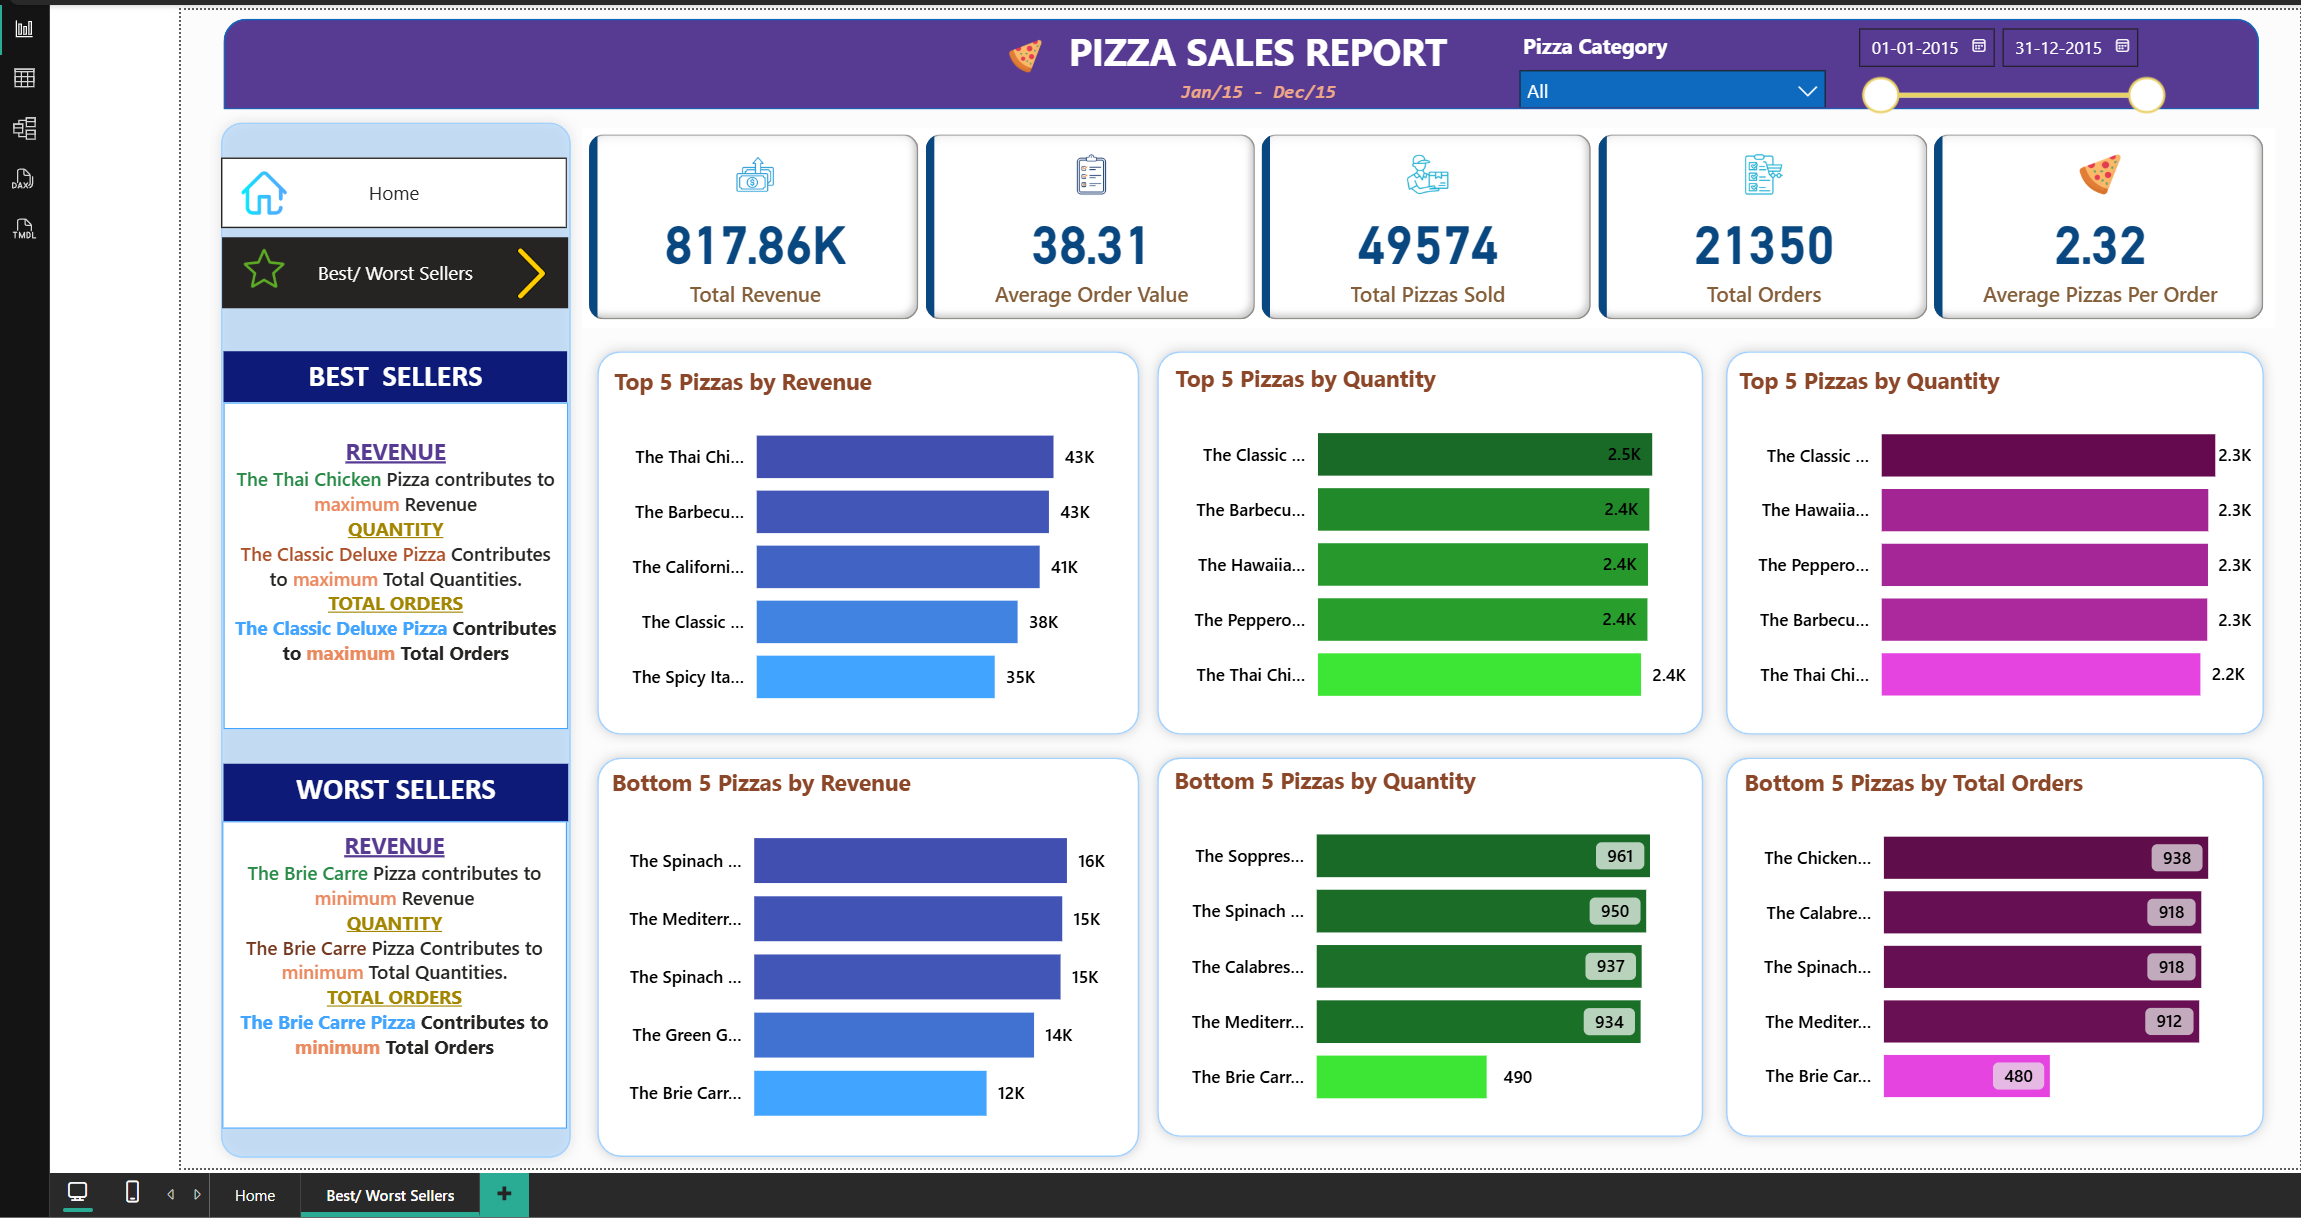

This screenshot's page, from the dashboard's own definition file:
{"tool":"powerbi","page":{"name":"Best/ Worst Sellers","canvas":[1500,820],"ordinal":1},"visuals":[{"type":"cardVisual","fields":{"Data":["pizza_sales.Total Revenue","pizza_sales.Average Order Value","pizza_sales.Total Pizzas Sold","pizza_sales.Total Orders","pizza_sales.Average Pizzas Per Order"]},"box":[283.8,83.2,1198.6,141.9],"z":0},{"type":"shape","box":[30.3,6.6,1440.8,64.3],"z":1000},{"type":"textbox","box":[612.1,6.6,299.9,57.7],"z":2000},{"type":"textbox","box":[702.9,43.5,131.5,27.4],"z":3000},{"type":"image","box":[577.1,16.1,41.6,34.1],"z":4000},{"type":"shape","box":[286.3,234,399.5,287.3],"z":5000},{"type":"shape","box":[20,71.3,263.5,748.7],"z":15000},{"type":"textbox","box":[30.4,241.6,243.5,36.1],"z":16000},{"type":"textbox","box":[30.3,278.1,244.1,230.8],"z":17000},{"type":"textbox","box":[30.3,533.6,244.1,40.7],"z":18000},{"type":"textbox","box":[29.3,574.2,244.1,217.6],"z":19000},{"type":"slicer","fields":{"Values":["pizza_sales.pizza_category"]},"box":[937,10.5,236.9,58],"z":20000},{"type":"slicer","fields":{"Values":["pizza_sales.order_date"]},"box":[1174.9,2.9,237.8,74.2],"z":21000},{"type":"shape","box":[683,234,402.4,287.3],"z":21001},{"type":"shape","box":[1085.4,234,396.7,287.3],"z":21002},{"type":"shape","box":[286.3,521.3,399.5,298.7],"z":21003},{"type":"shape","box":[683,521.3,402.4,284.4],"z":21004},{"type":"shape","box":[1085.4,521.3,396.7,284.4],"z":21005},{"type":"barChart","title":"Top 5 Pizzas by Revenue","fields":{"Category":["pizza_sales.pizza_name"],"Y":["pizza_sales.Total Revenue"]},"box":[301.3,251.3,371.6,257.7],"z":21006},{"type":"barChart","title":"Bottom 5 Pizzas by Revenue","fields":{"Category":["pizza_sales.pizza_name"],"Y":["pizza_sales.Total Revenue"]},"box":[299.7,535.6,372,270.2],"z":21007},{"type":"barChart","title":"Top 5 Pizzas by Quantity","fields":{"Category":["pizza_sales.pizza_name"],"Y":["pizza_sales.Total Pizzas Sold"]},"box":[699.2,249.2,372,257.8],"z":21008},{"type":"barChart","title":"Bottom 5 Pizzas by Quantity","fields":{"Category":["pizza_sales.pizza_name"],"Y":["pizza_sales.Total Pizzas Sold"]},"box":[698.5,533.4,371.6,258.7],"z":21009},{"type":"barChart","title":"Top 5 Pizzas by Quantity","fields":{"Category":["pizza_sales.pizza_name"],"Y":["pizza_sales.Total Orders"]},"box":[1097.7,250.2,372.7,256.6],"z":21010},{"type":"barChart","title":"Bottom 5 Pizzas by Total Orders","fields":{"Category":["pizza_sales.pizza_name"],"Y":["pizza_sales.Total Orders"]},"box":[1101.6,535.6,365.3,255.9],"z":21011},{"type":"pageNavigator","box":[29.3,160.8,245,50.1],"z":21012},{"type":"pageNavigator","box":[28.4,104.1,245,50.1],"z":21013},{"type":"image","box":[223.3,163.7,51.1,45.4],"z":21014},{"type":"image","box":[37.8,107.8,41.6,42.6],"z":21015},{"type":"image","box":[37.8,163.7,41.6,38.8],"z":21016}]}

Visuals, with their boxes on the page's 1500x820 design canvas (x1, y1, x2, y2). These are canvas units, not pixel positions in the 2301x1218 screenshot, which may show the page scaled, cropped or inside an application window:
cardVisual - pizza_sales.Total Revenue x pizza_sales.Average Order Value: (284, 83, 1482, 225)
shape: (30, 7, 1471, 71)
textbox: (612, 7, 912, 64)
textbox: (703, 44, 834, 71)
image: (577, 16, 619, 50)
shape: (286, 234, 686, 521)
shape: (20, 71, 284, 820)
textbox: (30, 242, 274, 278)
textbox: (30, 278, 274, 509)
textbox: (30, 534, 274, 574)
textbox: (29, 574, 273, 792)
slicer - pizza_sales.pizza_category: (937, 10, 1174, 68)
slicer - pizza_sales.order_date: (1175, 3, 1413, 77)
shape: (683, 234, 1085, 521)
shape: (1085, 234, 1482, 521)
shape: (286, 521, 686, 820)
shape: (683, 521, 1085, 806)
shape: (1085, 521, 1482, 806)
"Top 5 Pizzas by Revenue" barChart: (301, 251, 673, 509)
"Bottom 5 Pizzas by Revenue" barChart: (300, 536, 672, 806)
"Top 5 Pizzas by Quantity" barChart: (699, 249, 1071, 507)
"Bottom 5 Pizzas by Quantity" barChart: (698, 533, 1070, 792)
"Top 5 Pizzas by Quantity" barChart: (1098, 250, 1470, 507)
"Bottom 5 Pizzas by Total Orders" barChart: (1102, 536, 1467, 792)
pageNavigator: (29, 161, 274, 211)
pageNavigator: (28, 104, 273, 154)
image: (223, 164, 274, 209)
image: (38, 108, 79, 150)
image: (38, 164, 79, 202)
